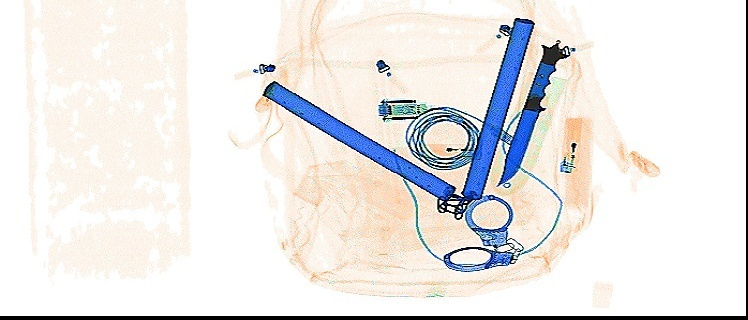handcuffs: (440, 193, 516, 272)
knife: (493, 38, 569, 186)
lighter: (555, 115, 583, 177), (410, 139, 484, 160)
